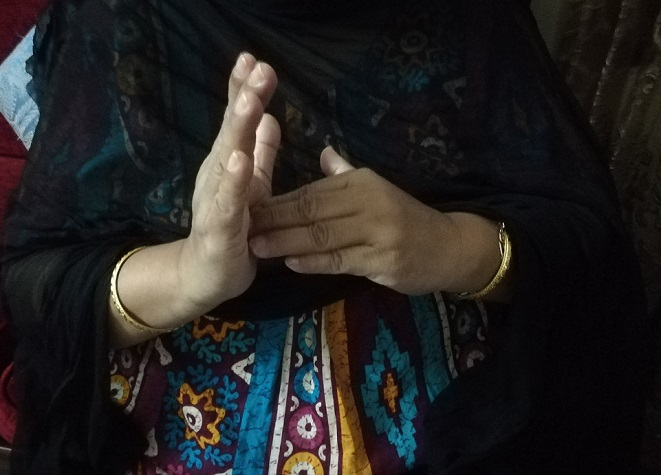ga: (189, 52, 416, 308)
